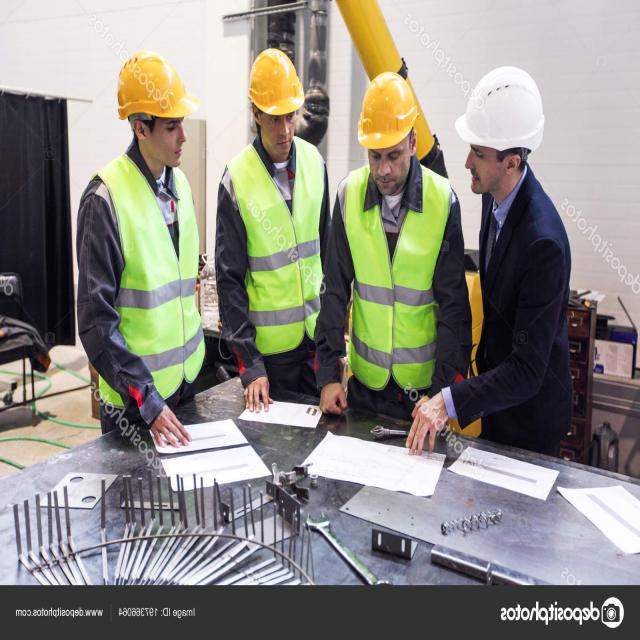Reflective-Jacket: (88, 153, 206, 407), (338, 168, 457, 396), (223, 140, 329, 356)
Safety-Helmet: (455, 60, 547, 153), (114, 46, 200, 121), (356, 67, 420, 150), (246, 43, 307, 118)
